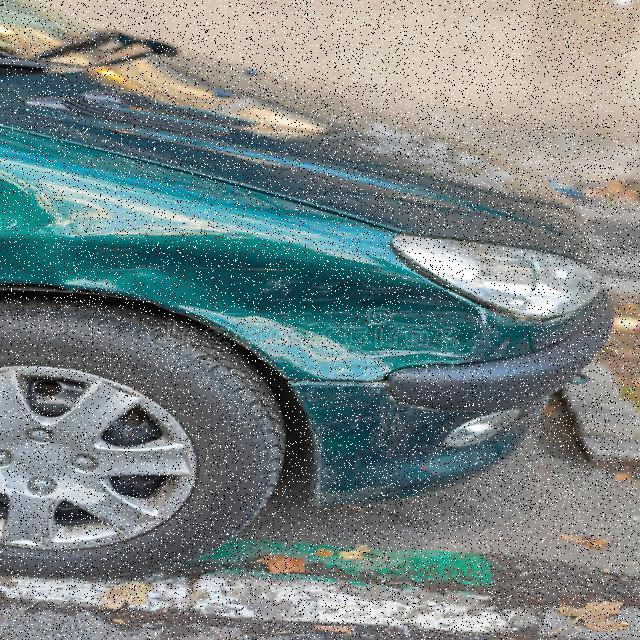fender-dent: (0, 223, 475, 386)
